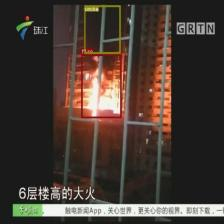fire: (81, 54, 121, 118)
smoke: (84, 5, 120, 53)
